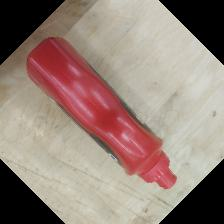Chinsu: (25, 34, 177, 192)
